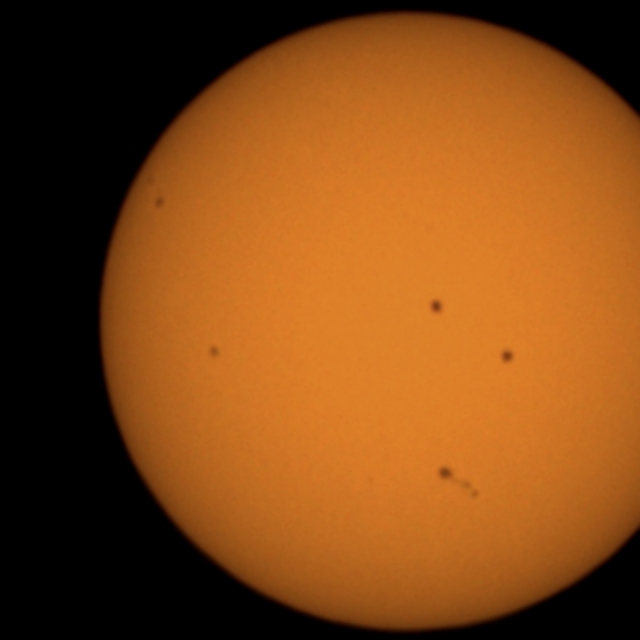sunspot: (436, 464, 482, 502), (145, 174, 167, 210), (427, 296, 446, 318), (435, 464, 455, 483), (498, 346, 516, 367), (206, 342, 222, 362), (152, 194, 166, 212)
